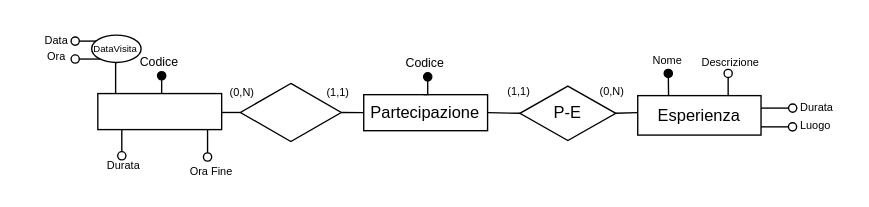
Image size: 869x207. Some labels were removed from this diagram. Each missing label, with the box of its shape:
V-P: (239, 82, 341, 142)
Visita: (96, 92, 222, 130)
